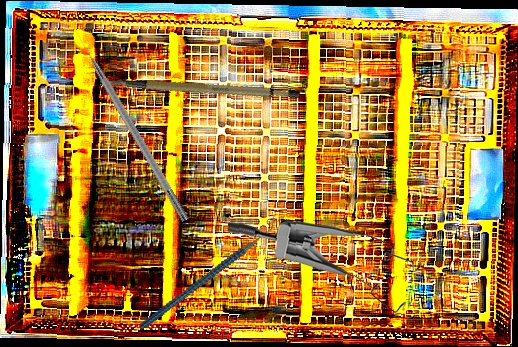Chopper: (120, 214, 296, 330)
Hook Surgical: (70, 26, 191, 223)
Scalpel Handle: (102, 47, 302, 125)
Speculum: (228, 215, 422, 317)
